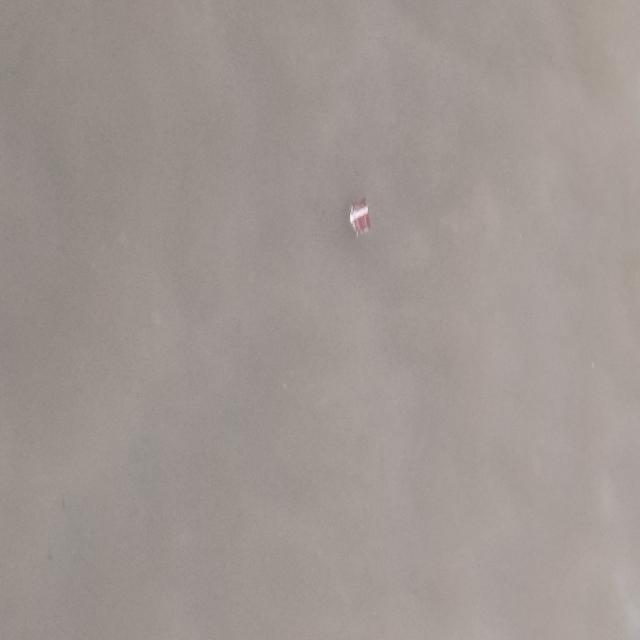Plastic: (345, 191, 375, 241)
